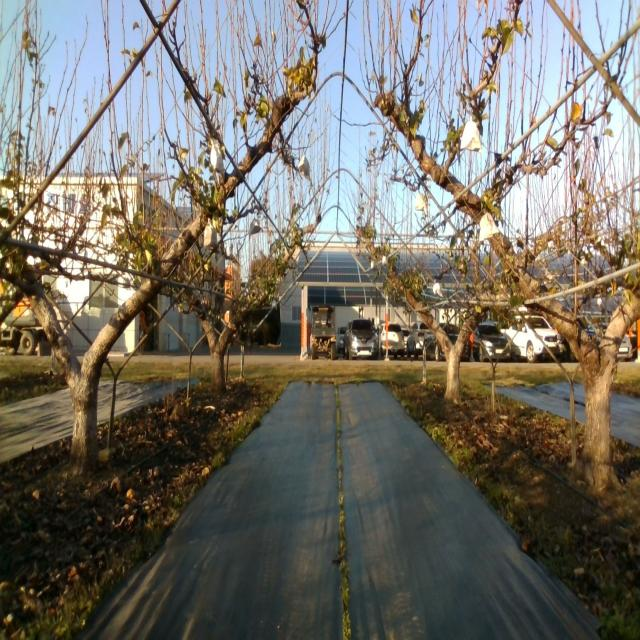pearbags: (460, 114, 483, 151), (479, 213, 500, 241), (210, 139, 224, 175), (203, 218, 218, 249), (298, 154, 311, 180), (415, 193, 428, 215), (249, 217, 261, 234)
